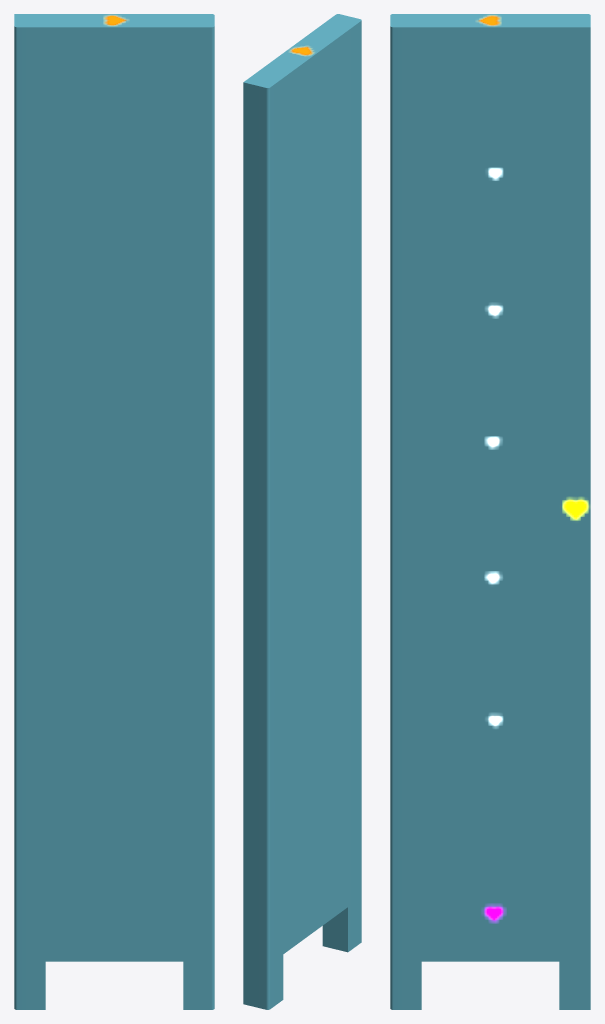
Rendered from shelfSide.glb.
The picture shows the model from 3 angles, left to right: view 1: azimuth 90°, elevation 25°; view 2: azimuth 150°, elevation 25°; view 3: azimuth 270°, elevation 25°; orthographic projection. The views are drawn at different scales.
Parts seen in each view (by area): view 1: rightBoard; view 2: rightBoard; view 3: rightBoard.
Part boxes in pixels (x1,y1,x2,y2): rightBoard: (14, 14, 214, 1009); rightBoard: (243, 14, 361, 1009); rightBoard: (390, 14, 590, 1009).
Bounding box in the file's own units: 0.5612 × 19.4 × 3.59.
1 material, 1 textured.
